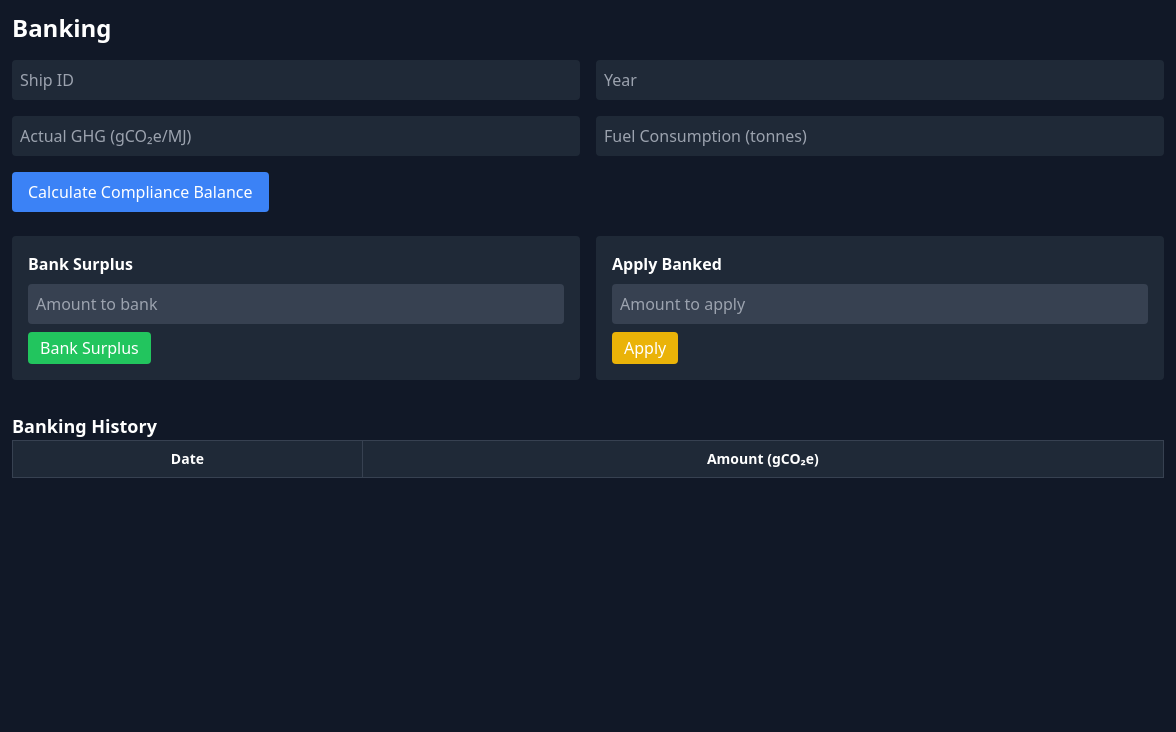
Test: BankingTab › calculates CB and displays results
In the field with placeholder "Ship ID": (296, 80) x1=12 y1=60 x2=580 y2=100, type "S1"
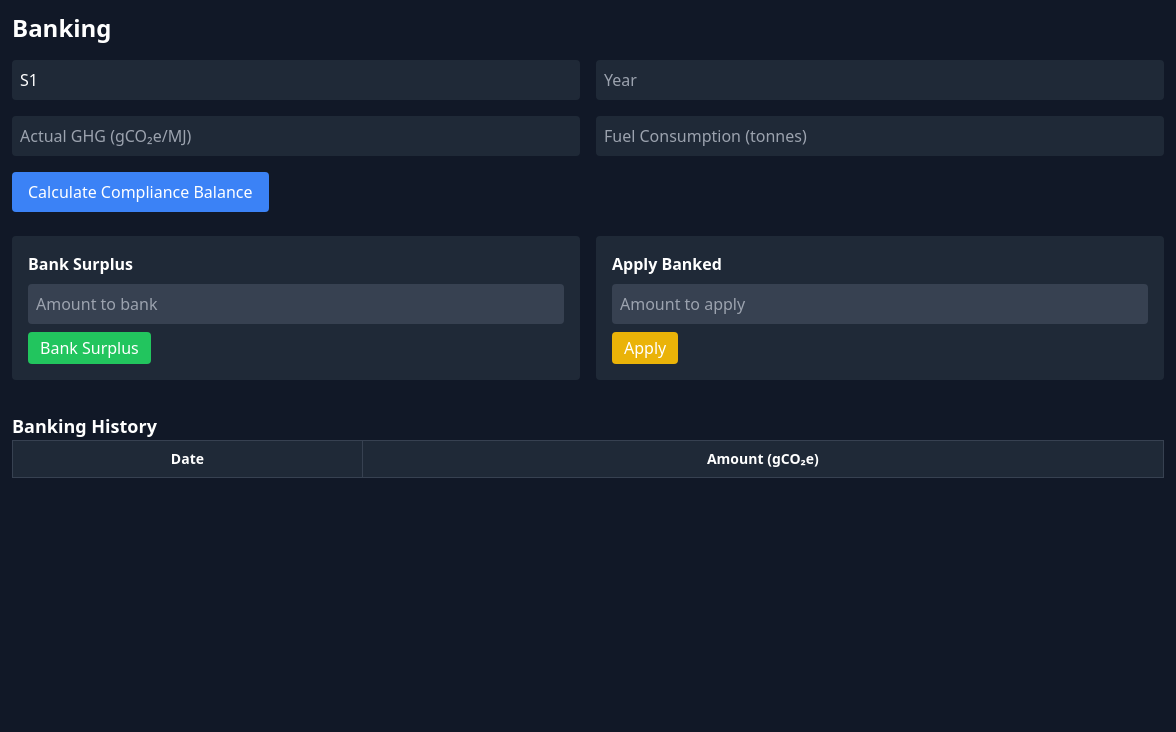
In the number field with placeholder "Year": (880, 80) x1=596 y1=60 x2=1164 y2=100, type "2024"
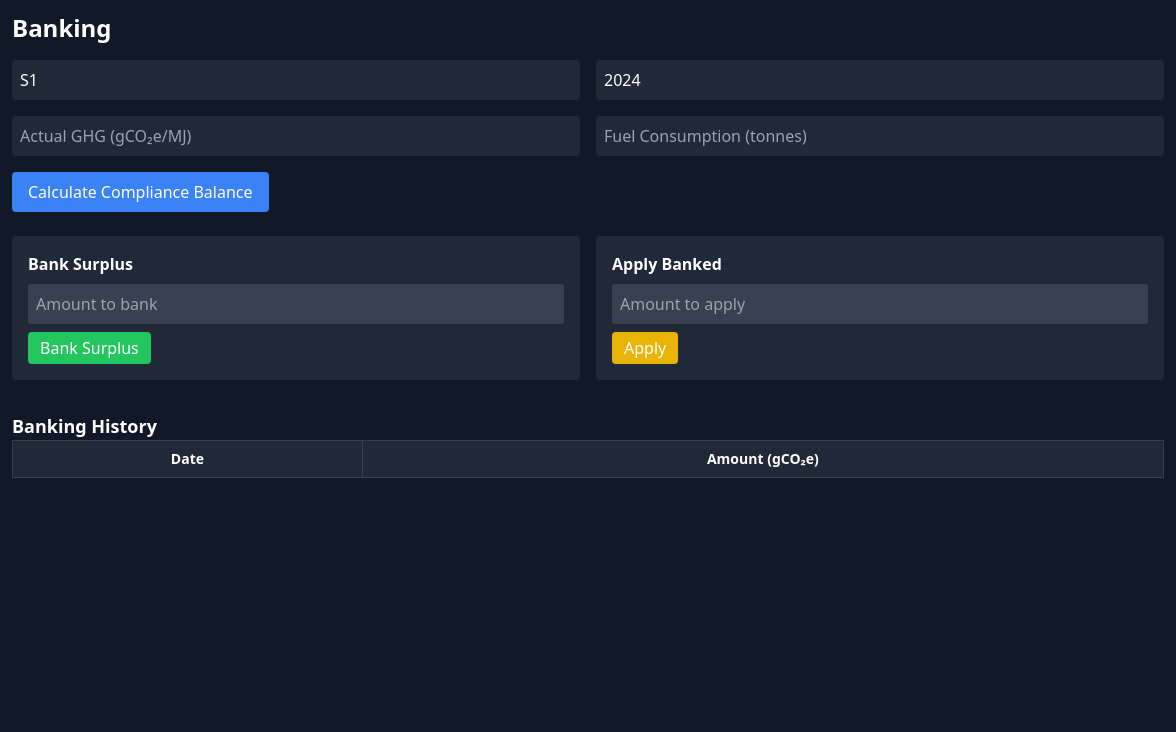
In the field with placeholder "Actual GHG (gCO₂e/MJ)": (296, 136) x1=12 y1=116 x2=580 y2=156, type "88"
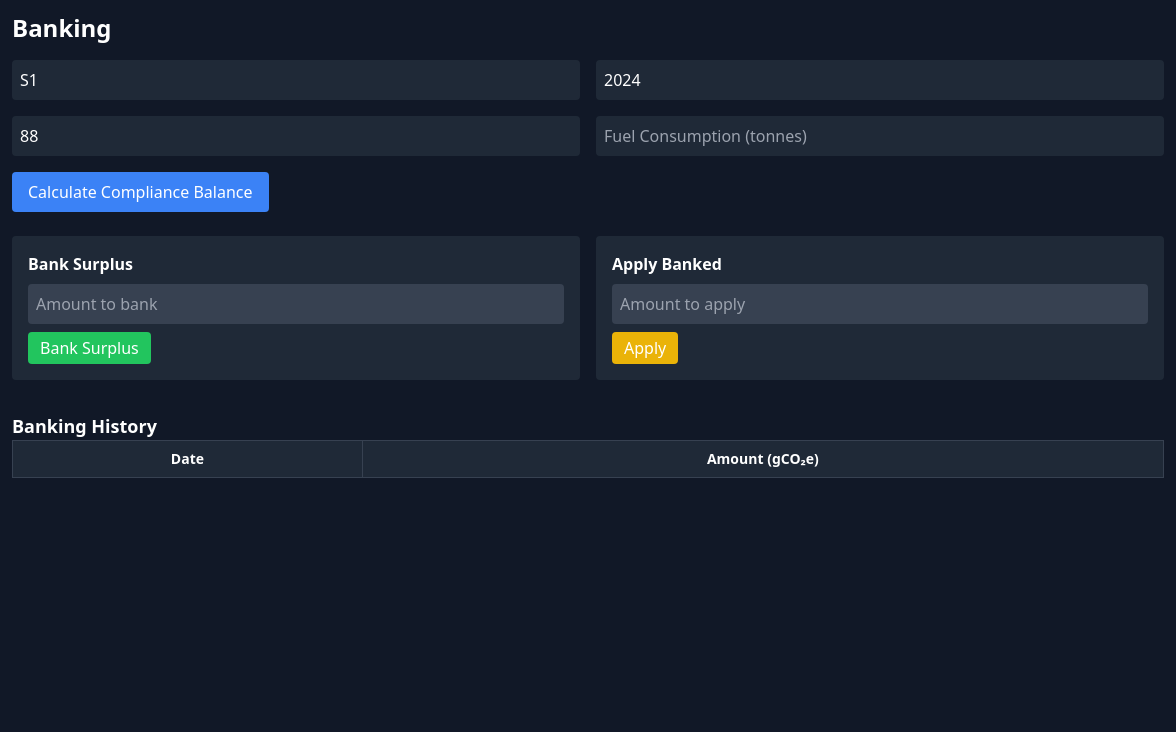
In the field with placeholder "Fuel Consumption (tonnes)": (880, 136) x1=596 y1=116 x2=1164 y2=156, type "5000"
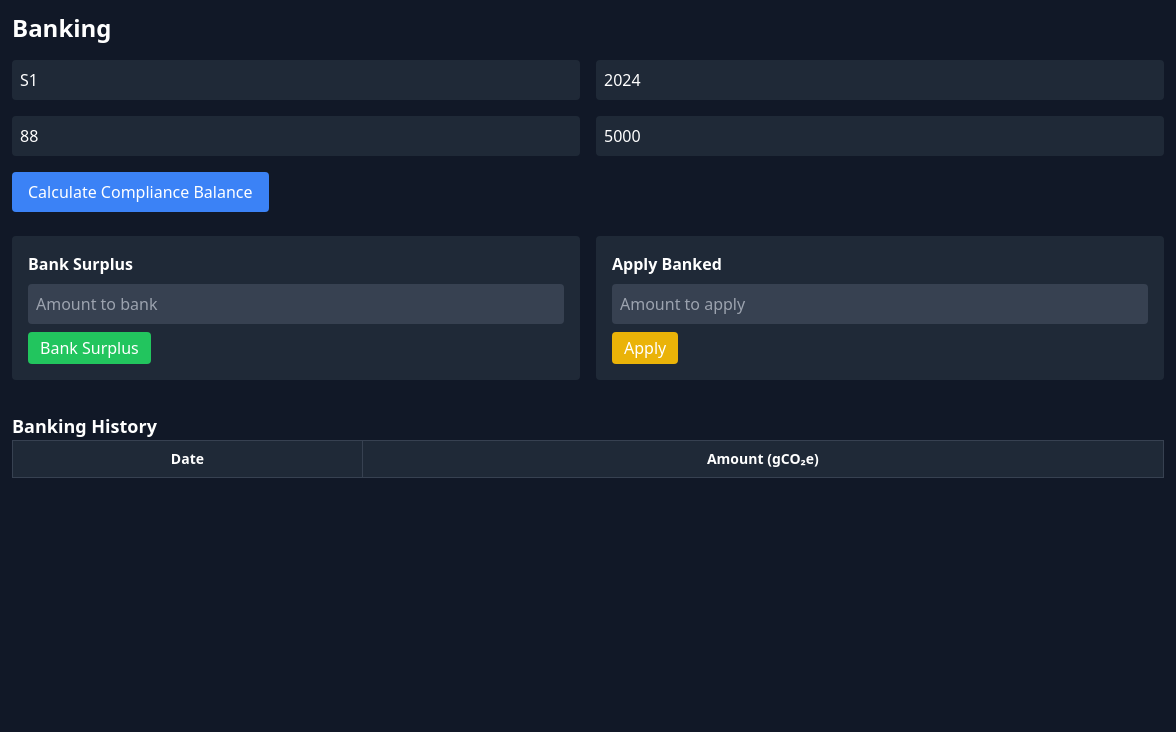
Click the button "Calculate Compliance Balance": (140, 192) x1=12 y1=172 x2=268 y2=212
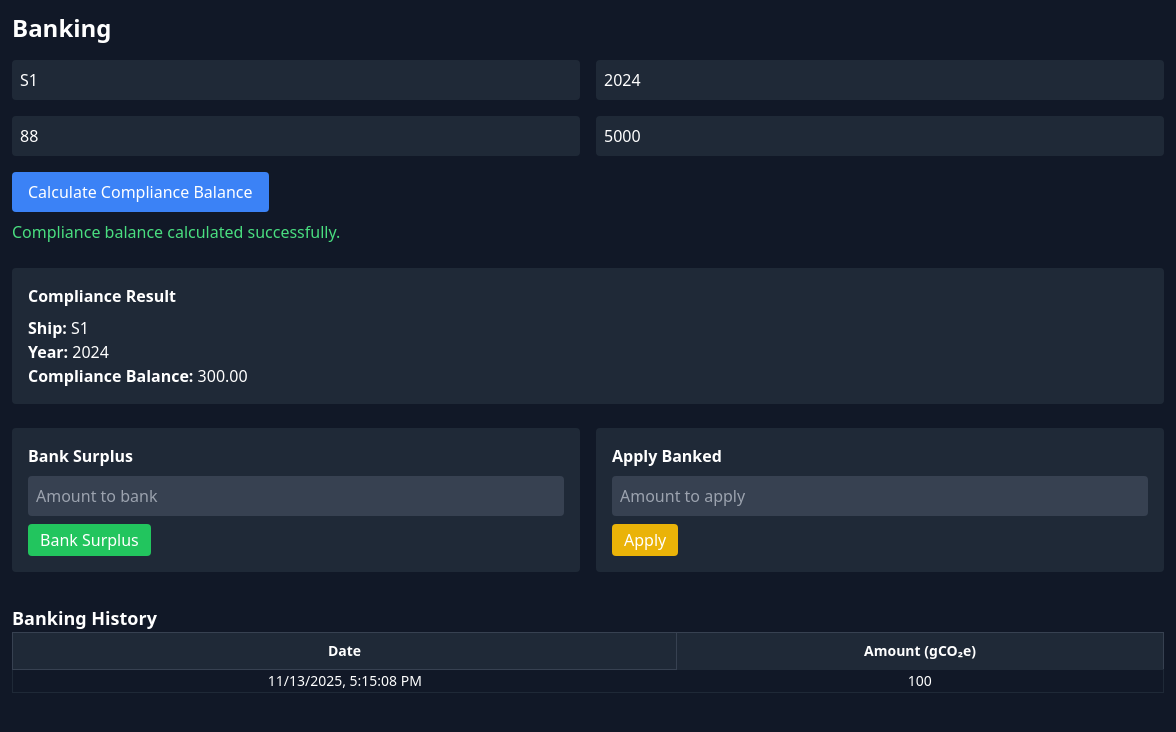
Expected: the heading "Compliance Result" is shown, x1=28 y1=285 x2=176 y2=307
Expected: the text "S1" is shown, x1=71 y1=317 x2=89 y2=339
Expected: the text "Compliance Balance: 300.00" is shown, x1=28 y1=365 x2=248 y2=387
